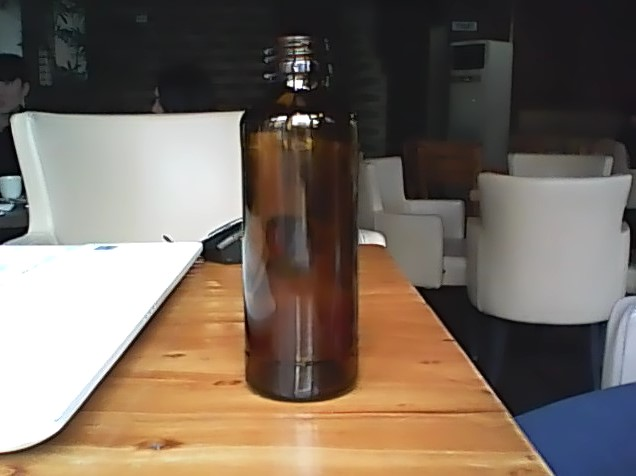Glass: (237, 30, 364, 404)
